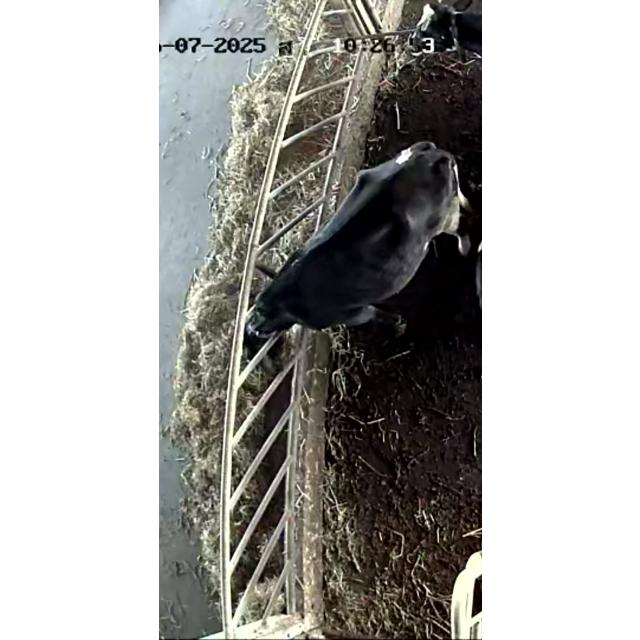eat: (185, 258, 345, 349)
